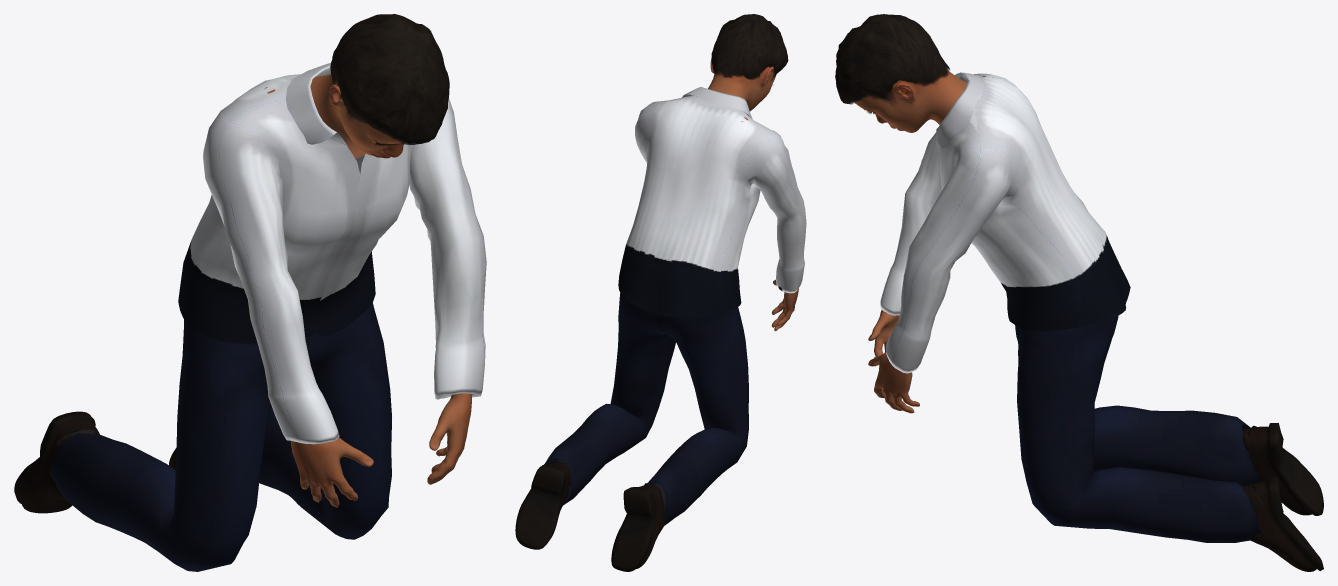
File: b1_kneel.glb
3 views of the same model, side by side, from view 1: azimuth 30°, elevation 25°; view 2: azimuth 150°, elevation 25°; view 3: azimuth 270°, elevation 25° (orthographic). The views are drawn at different scales.
Visible parts, largest first — view 1: b1.male_casualsuit03, b1.short02, b1, b1.shoes01; view 2: b1.male_casualsuit03, b1.shoes01, b1.short02, b1; view 3: b1.male_casualsuit03, b1.short02, b1.shoes01, b1.
Boxes of the visible parts, x1,y1,x2,y2 form: b1.male_casualsuit03: [49, 63, 486, 571]; b1.short02: [330, 14, 449, 144]; b1: [264, 74, 472, 507]; b1.shoes01: [14, 411, 176, 513]; b1.male_casualsuit03: [544, 87, 806, 525]; b1.shoes01: [515, 459, 666, 571]; b1.short02: [711, 14, 788, 81]; b1: [708, 58, 798, 331]; b1.male_casualsuit03: [880, 72, 1261, 542]; b1.short02: [835, 14, 949, 105]; b1.shoes01: [1242, 422, 1323, 571]; b1: [854, 70, 993, 413].
Size of the model in its own units: 0.4233 by 1.13 by 0.9575.
7 materials, 7 textured.
